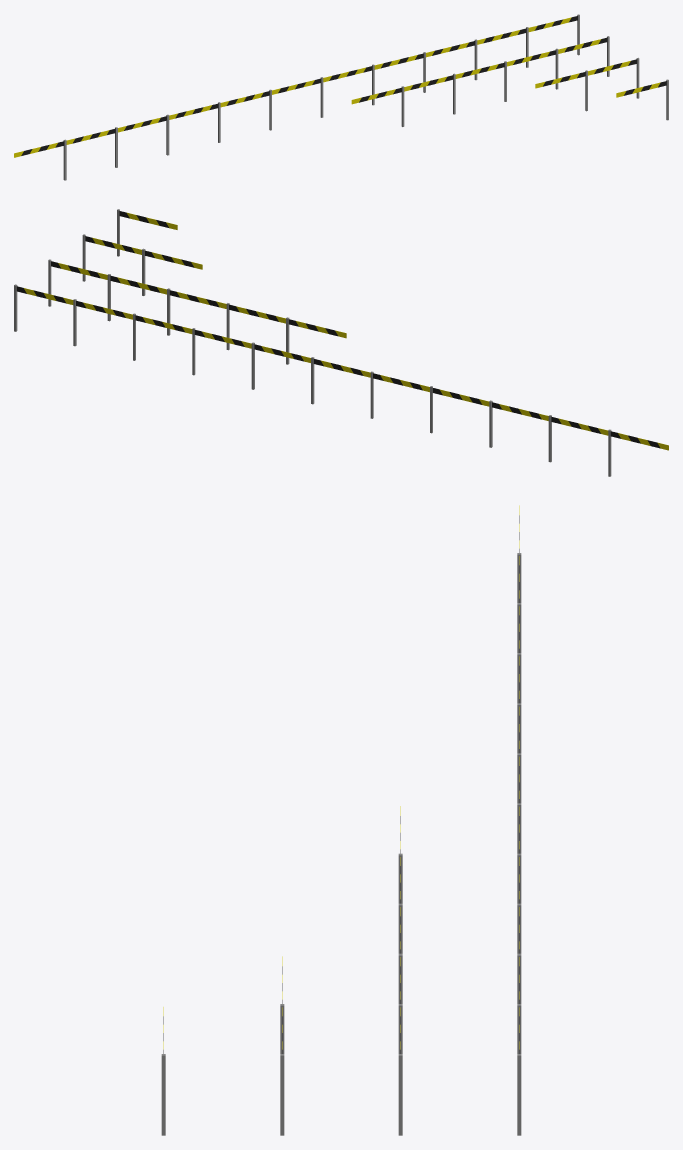
The model's file is FenceCaution.fbx.
3 views of the same model, one above another, from view 1: azimuth 30°, elevation 25°; view 2: azimuth 150°, elevation 25°; view 3: azimuth 270°, elevation 25° (orthographic). The views are drawn at different scales.
Visible parts, largest first — view 1: Fence_Caution_22m, Fence_Caution_10m, Fence_Caution_6m, Fence_Caution_2m; view 2: Fence_Caution_22m, Fence_Caution_10m, Fence_Caution_6m, Fence_Caution_2m; view 3: Fence_Caution_22m, Fence_Caution_10m.
Part boxes in pixels (bbox=[...]): Fence_Caution_22m: bbox=[14, 14, 579, 180]; Fence_Caution_10m: bbox=[351, 36, 609, 126]; Fence_Caution_6m: bbox=[535, 57, 639, 111]; Fence_Caution_2m: bbox=[616, 79, 668, 120]; Fence_Caution_22m: bbox=[14, 284, 668, 476]; Fence_Caution_10m: bbox=[48, 259, 346, 364]; Fence_Caution_6m: bbox=[82, 234, 202, 295]; Fence_Caution_2m: bbox=[117, 209, 177, 256]; Fence_Caution_22m: bbox=[517, 505, 521, 1135]; Fence_Caution_10m: bbox=[398, 806, 402, 1135].
Bounding box in the file's own units: 22.02 × 1.49 × 6.07.
